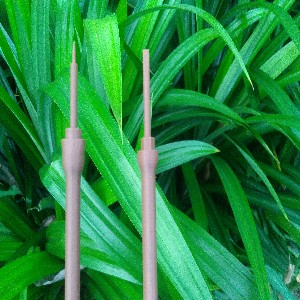obeng: (136, 47, 159, 300)
solder: (58, 39, 87, 300)
